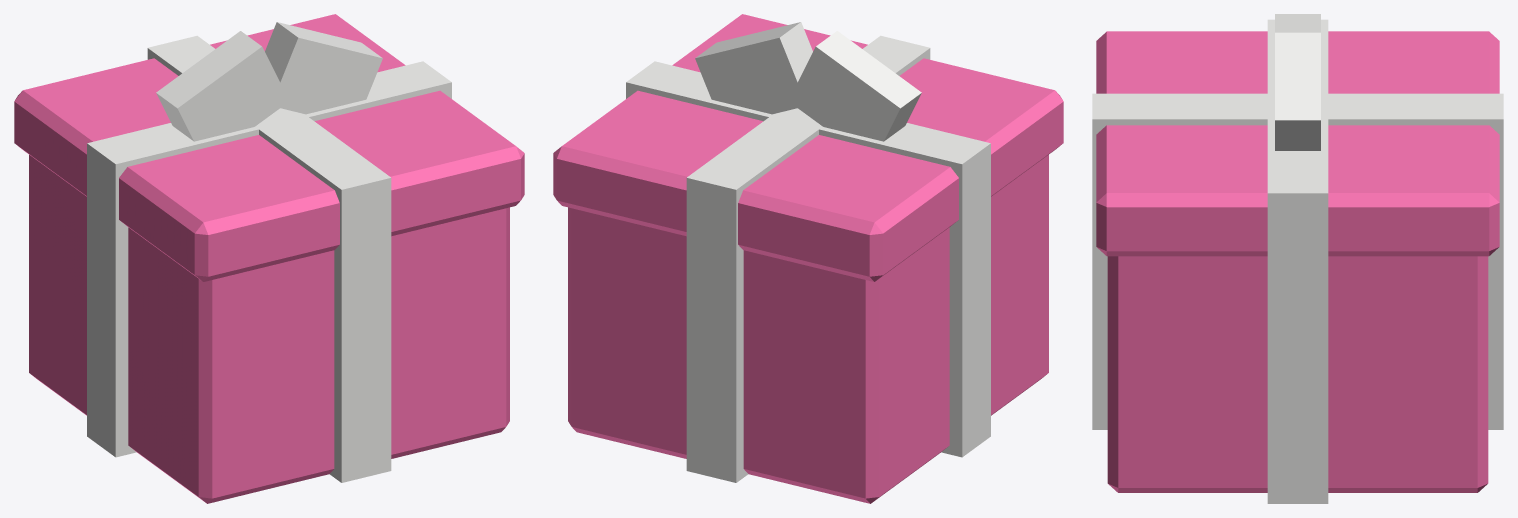
The model's file is PinkGift.fbx.
3 views of the same model, side by side, from view 1: azimuth 30°, elevation 25°; view 2: azimuth 150°, elevation 25°; view 3: azimuth 270°, elevation 25° (orthographic). The views are drawn at different scales.
Visible parts, largest first — view 1: PinkGift; view 2: PinkGift; view 3: PinkGift.
Part boxes in pixels (<box>): PinkGift: <box>14,14,524,503</box>; PinkGift: <box>553,14,1063,503</box>; PinkGift: <box>1092,14,1503,503</box>.
Size of the model in its own units: 1.94 by 2.05 by 1.94.
Materials: 1 (1 with a texture image).
